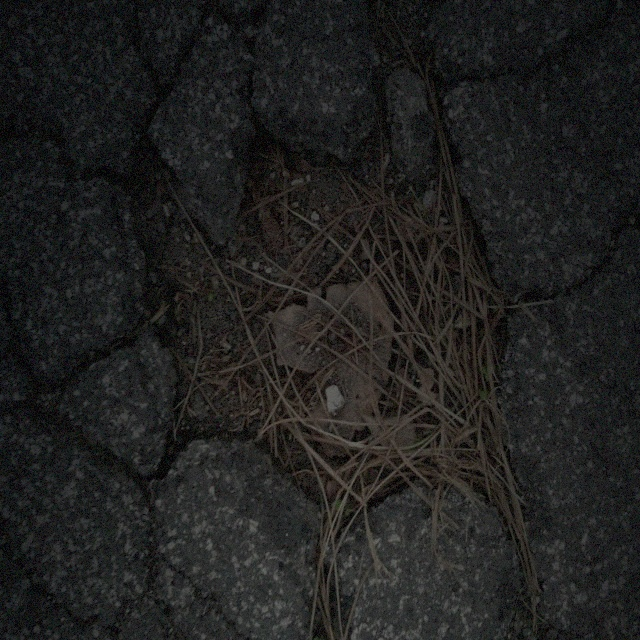pothole: (126, 116, 524, 544)
